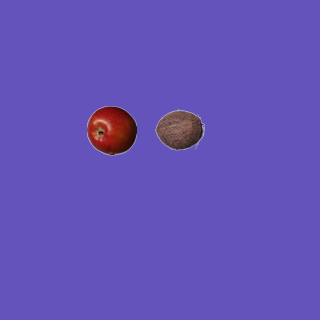Apple Braeburn: (86, 105, 136, 155)
Cocos: (154, 104, 204, 154)
